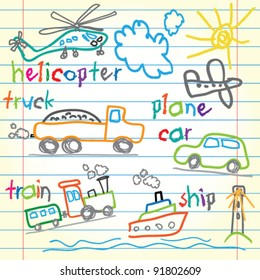airplane: (181, 58, 246, 108)
boat: (127, 191, 189, 238)
car: (167, 126, 251, 174)
cloud: (112, 20, 179, 80), (162, 8, 185, 37)
sun: (184, 1, 257, 66)
